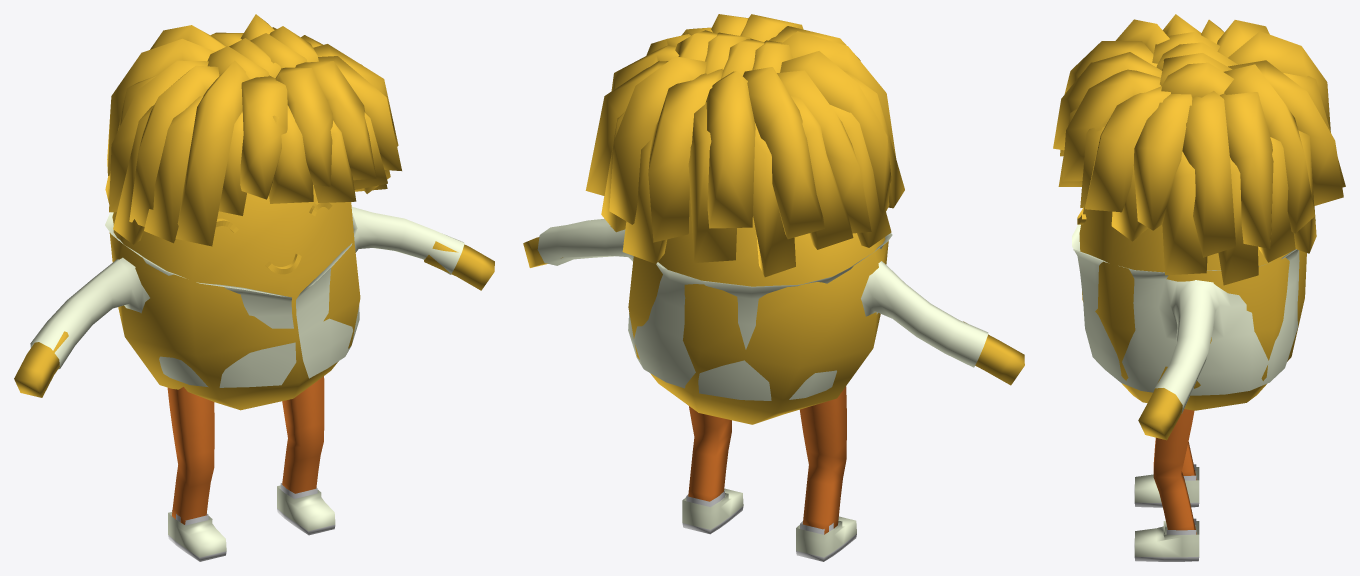
File: mango_C.fbx
3 views of the same model, side by side, from view 1: azimuth 30°, elevation 25°; view 2: azimuth 150°, elevation 25°; view 3: azimuth 270°, elevation 25° (orthographic). The views are drawn at different scales.
Visible parts, largest first — view 1: mango_C; view 2: mango_C; view 3: mango_C.
Part boxes in pixels (left/top/right/bottom): mango_C: left=14, top=14, right=494, bottom=561; mango_C: left=523, top=14, right=1024, bottom=561; mango_C: left=1053, top=14, right=1345, bottom=561.
Size of the model in its own units: 223 by 214 by 115.
